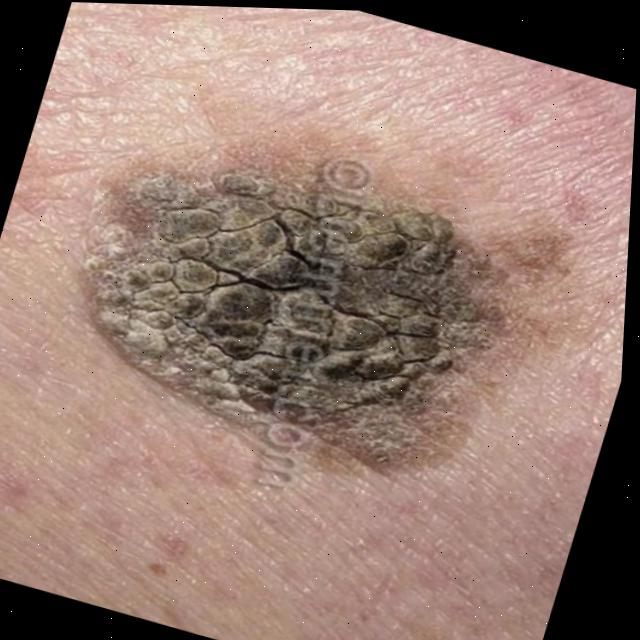Eczema: (13, 115, 567, 541)
